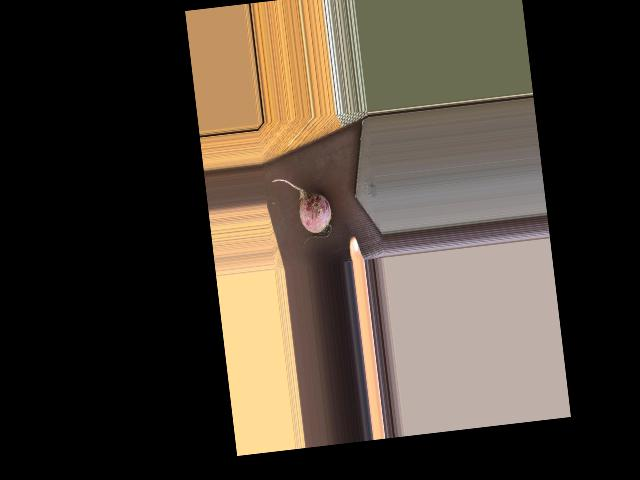beet: (272, 173, 334, 247)
